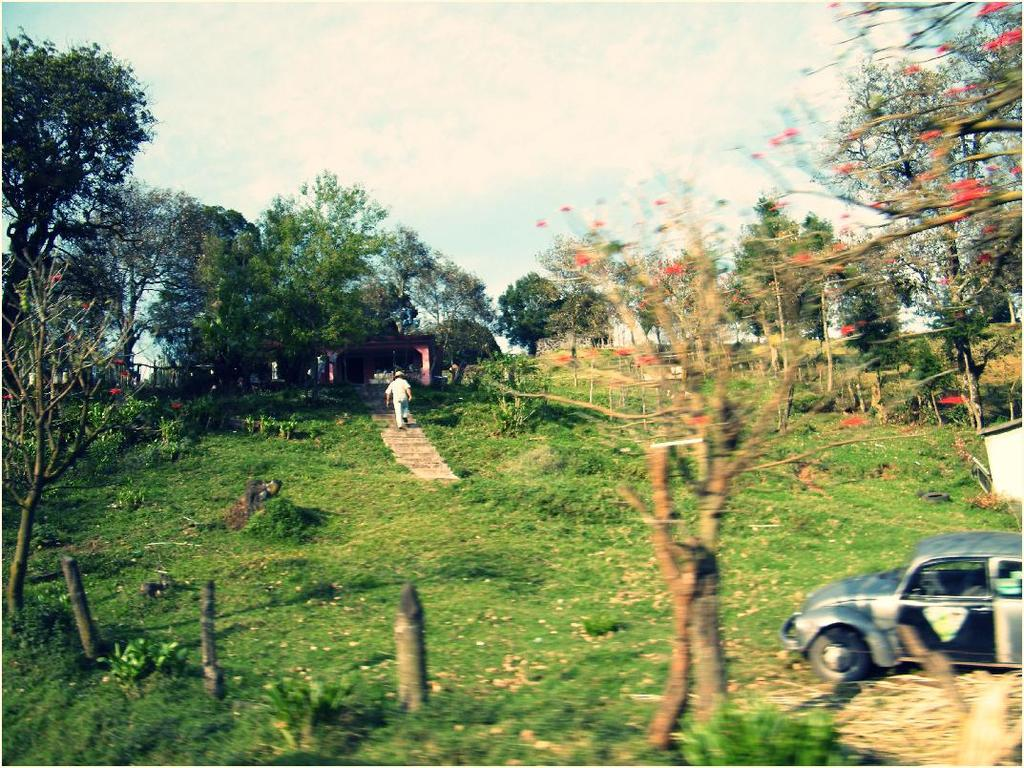cars: (782, 528, 1023, 685)
